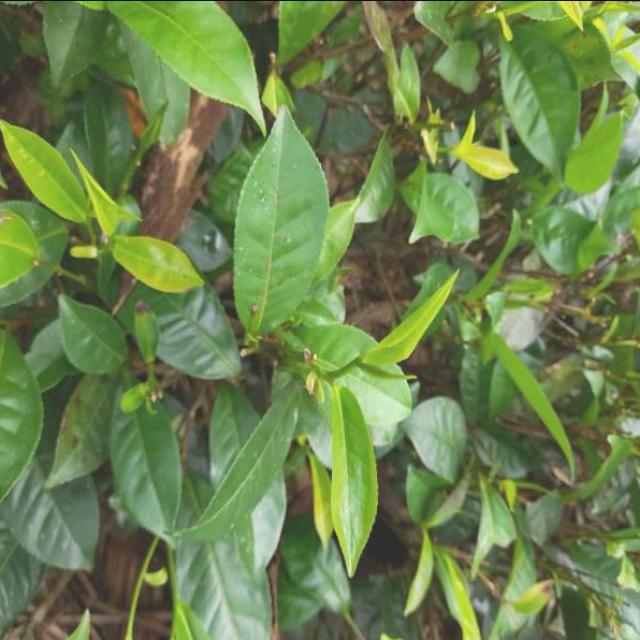Stem: (348, 362, 356, 367)
